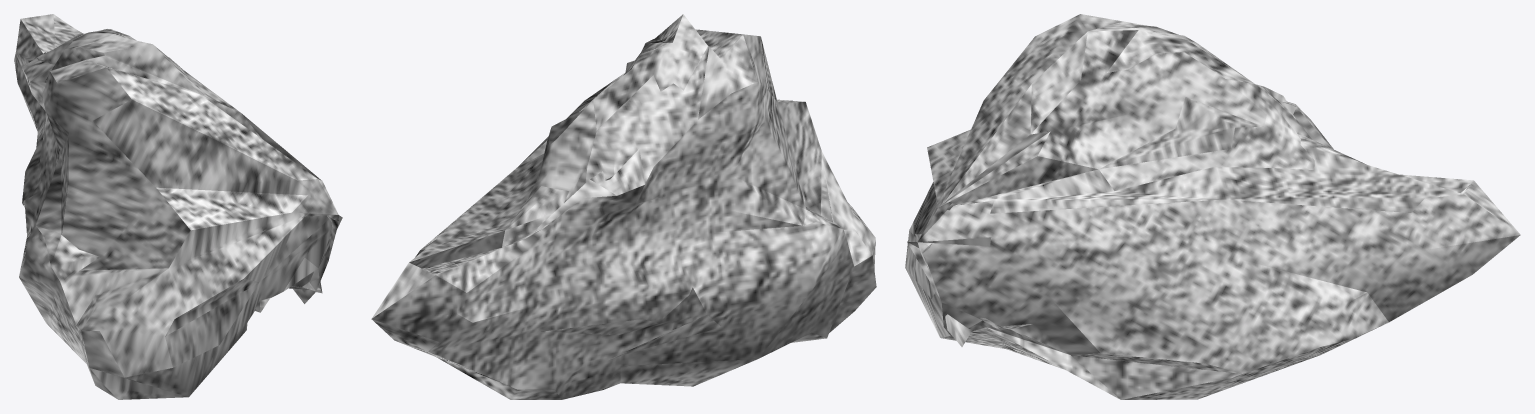
Rendered from Rock_Asset_18.fbx.
The picture shows the model from 3 angles, left to right: view 1: azimuth 30°, elevation 25°; view 2: azimuth 150°, elevation 25°; view 3: azimuth 270°, elevation 25°; orthographic projection. The views are drawn at different scales.
Parts seen in each view (by area): view 1: Rock_Asset; view 2: Rock_Asset; view 3: Rock_Asset.
Part boxes in pixels (x1=…): Rock_Asset: x1=14, y1=14, x2=342, y2=399; Rock_Asset: x1=371, y1=14, x2=876, y2=399; Rock_Asset: x1=905, y1=14, x2=1520, y2=399.
Size of the model in its own units: 1.32 by 1.37 by 2.26.
1 material, 1 textured.
